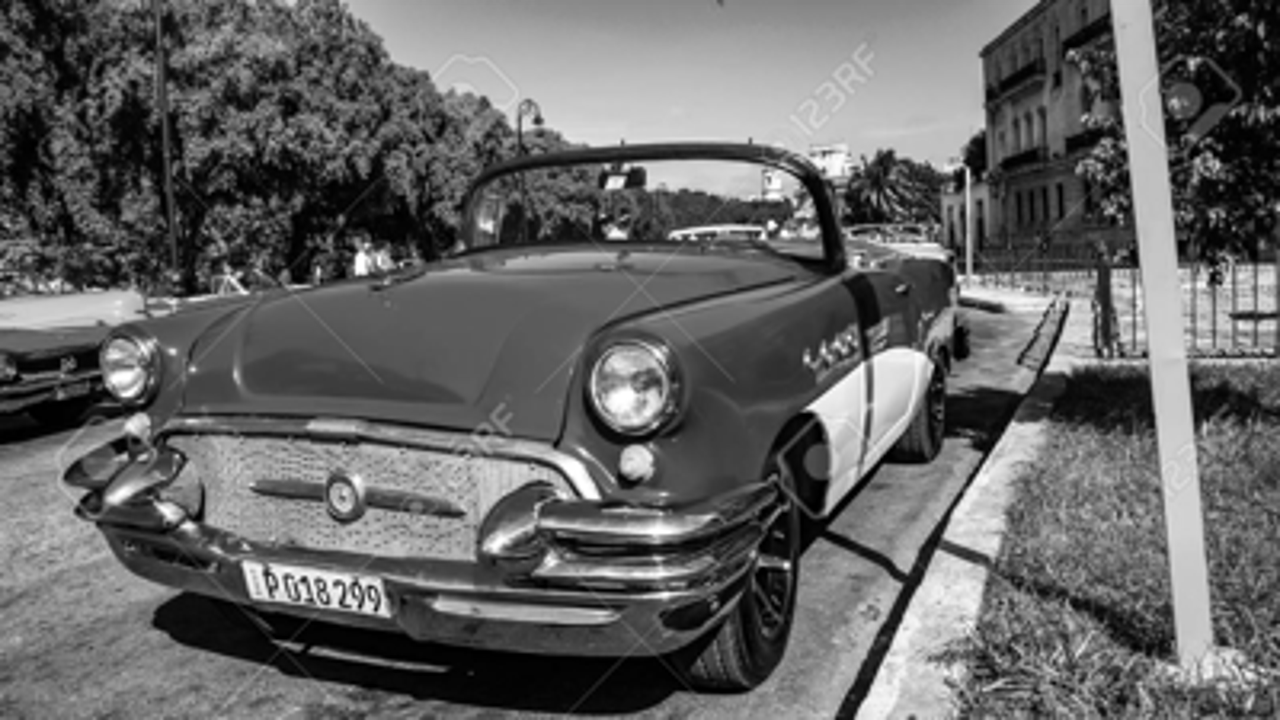license: (233, 553, 399, 624)
